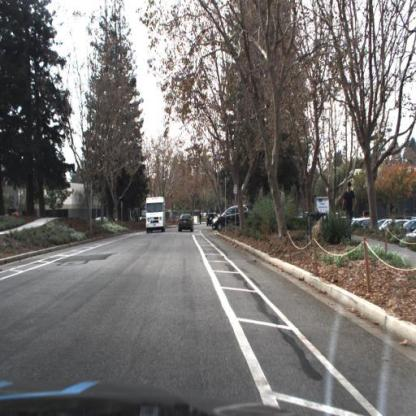car: (212, 205, 249, 233), (178, 215, 194, 236)
pedestrian: (346, 182, 355, 231)
truck: (146, 197, 165, 233), (316, 197, 330, 218)
